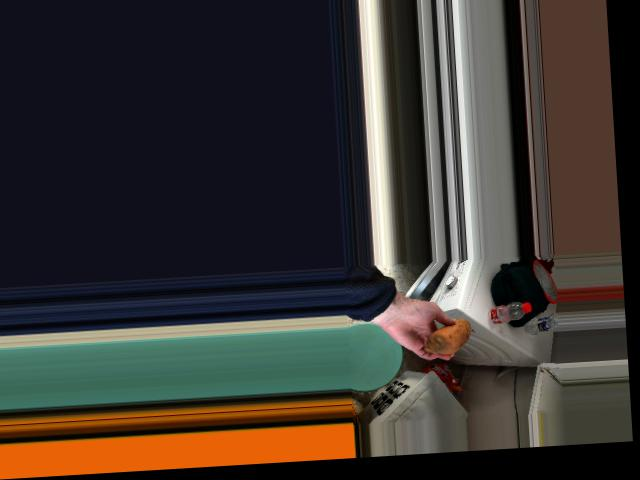sweet_potato: (429, 320, 472, 354)
